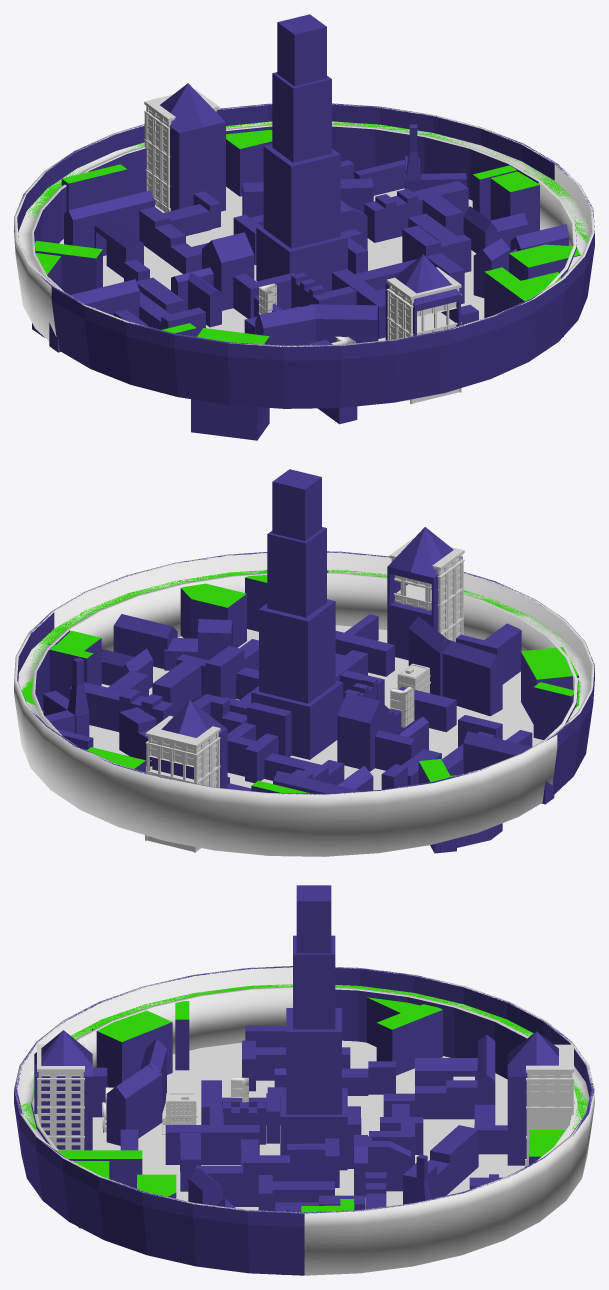
File: map.glb
3 renders of one model, top to bottom at view 1: azimuth 30°, elevation 25°; view 2: azimuth 150°, elevation 25°; view 3: azimuth 270°, elevation 25°, orthographic.
Visible parts, largest first — view 1: Cube.001, Circle, Atlas.002, Atlas.018, Atlas.001, Atlas.003; view 2: Cube.001, Circle, Atlas.018, Atlas.003, Atlas.002, Atlas.001, Atlas.006, Cube.007; view 3: Cube.001, Circle, Atlas.018, Atlas.002, Atlas.003, Atlas.001, Cube.007.
Part boxes in pixels (x1=…): Cube.001: x1=14, y1=14, x2=594, y2=440; Circle: x1=14, y1=103, x2=594, y2=346; Atlas.002: x1=144, y1=113, x2=170, y2=212; Atlas.018: x1=386, y1=291, x2=461, y2=404; Atlas.001: x1=386, y1=267, x2=461, y2=318; Atlas.003: x1=144, y1=89, x2=219, y2=139; Cube.001: x1=17, y1=469, x2=594, y2=853; Circle: x1=14, y1=552, x2=594, y2=856; Atlas.018: x1=393, y1=562, x2=464, y2=641; Atlas.003: x1=145, y1=715, x2=220, y2=767; Atlas.002: x1=145, y1=739, x2=220, y2=852; Atlas.001: x1=389, y1=538, x2=464, y2=589; Atlas.006: x1=390, y1=686, x2=414, y2=727; Cube.007: x1=397, y1=663, x2=430, y2=693; Cube.001: x1=14, y1=885, x2=594, y2=1275; Circle: x1=14, y1=966, x2=594, y2=1275; Atlas.018: x1=37, y1=1080, x2=84, y2=1150; Atlas.002: x1=525, y1=1080, x2=573, y2=1166; Atlas.003: x1=526, y1=1044, x2=573, y2=1091; Atlas.001: x1=37, y1=1044, x2=84, y2=1091; Cube.007: x1=161, y1=1093, x2=197, y2=1134.
Bounding box in the file's own units: 155 × 87.31 × 154.
